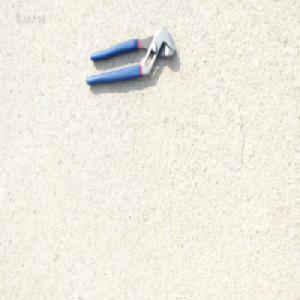Pliers: (84, 25, 175, 86)
